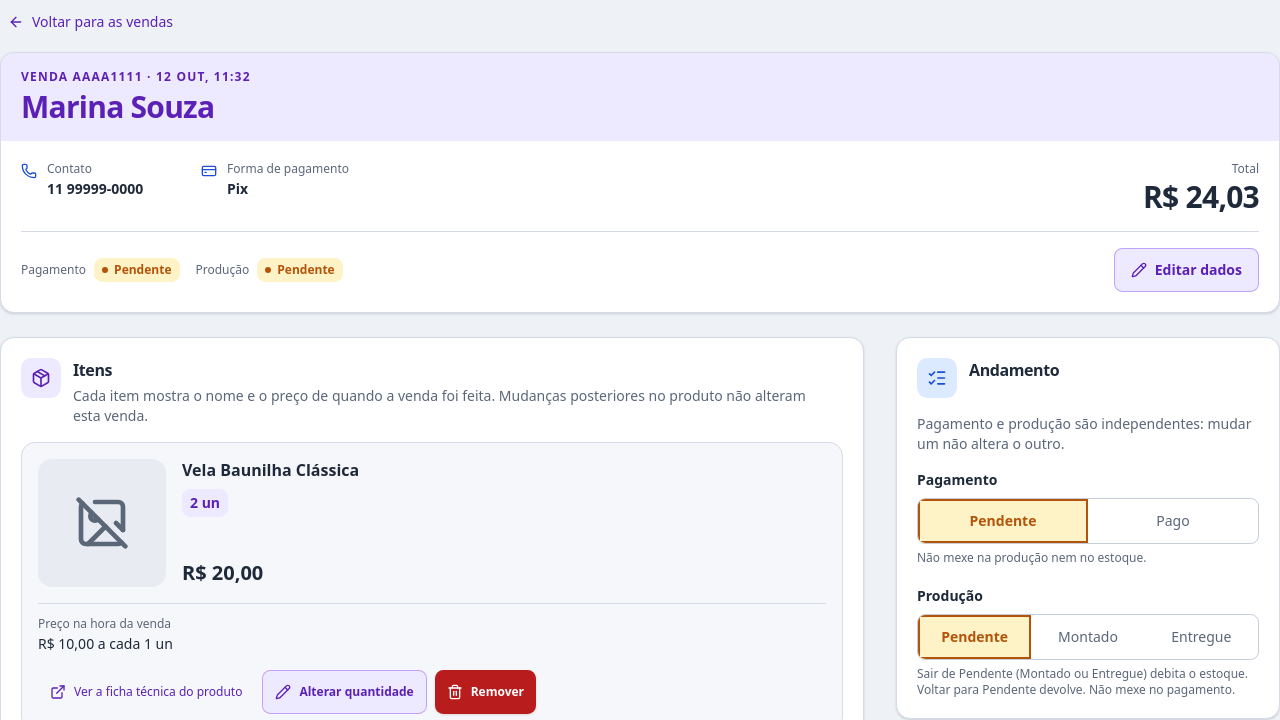
it: the two states of a sale › asks before delivering a pending sale, because that debits the stock too, and leaves the payment alone
The width and height of the screenshot is (1280, 720).
Check: the heading "Marina Souza" is shown, box [21,86,214,127]
Click the radio button labelled "Entregue".
click(1201, 637)  # box [1145,615,1258,659]
(page scrolled)
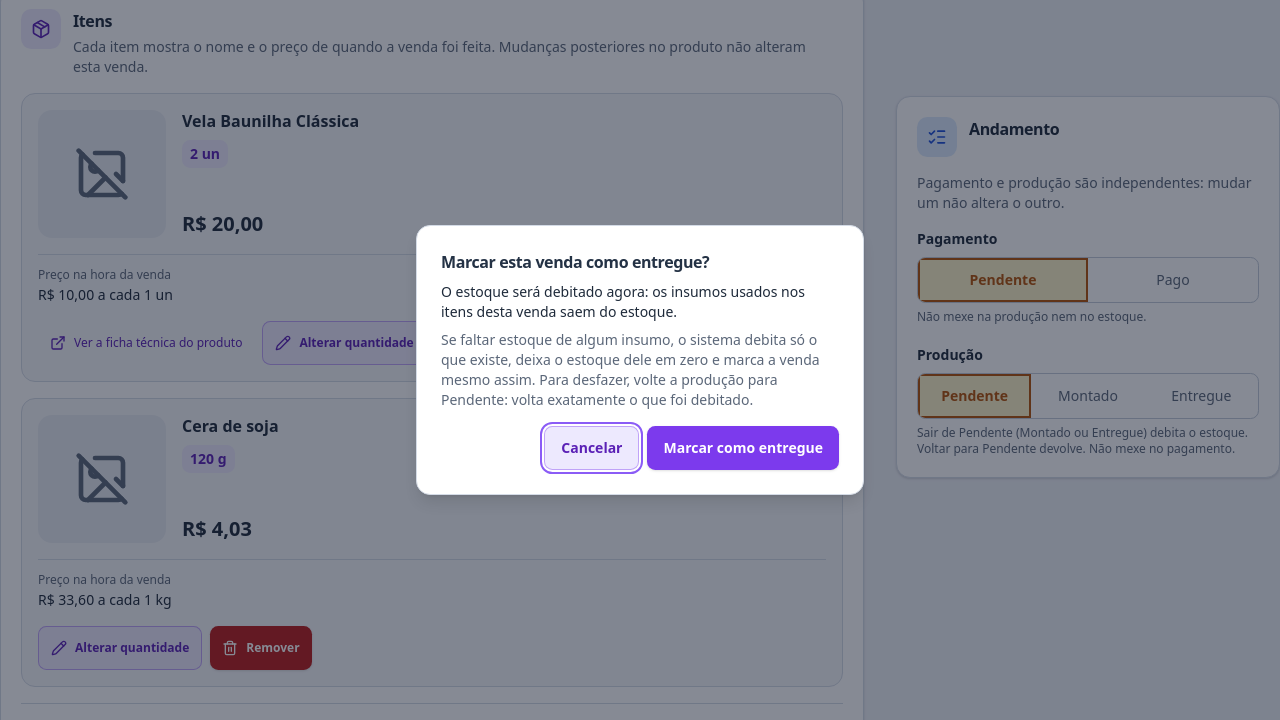
Check: the heading "Marcar esta venda como entregue?" is shown, box [441,251,709,273]
Check: the text "O estoque será debitado agora" is shown, box [441,282,805,321]
Click the button "Marcar como entregue".
click(743, 448)  # box [648,426,839,470]
(page scrolled)
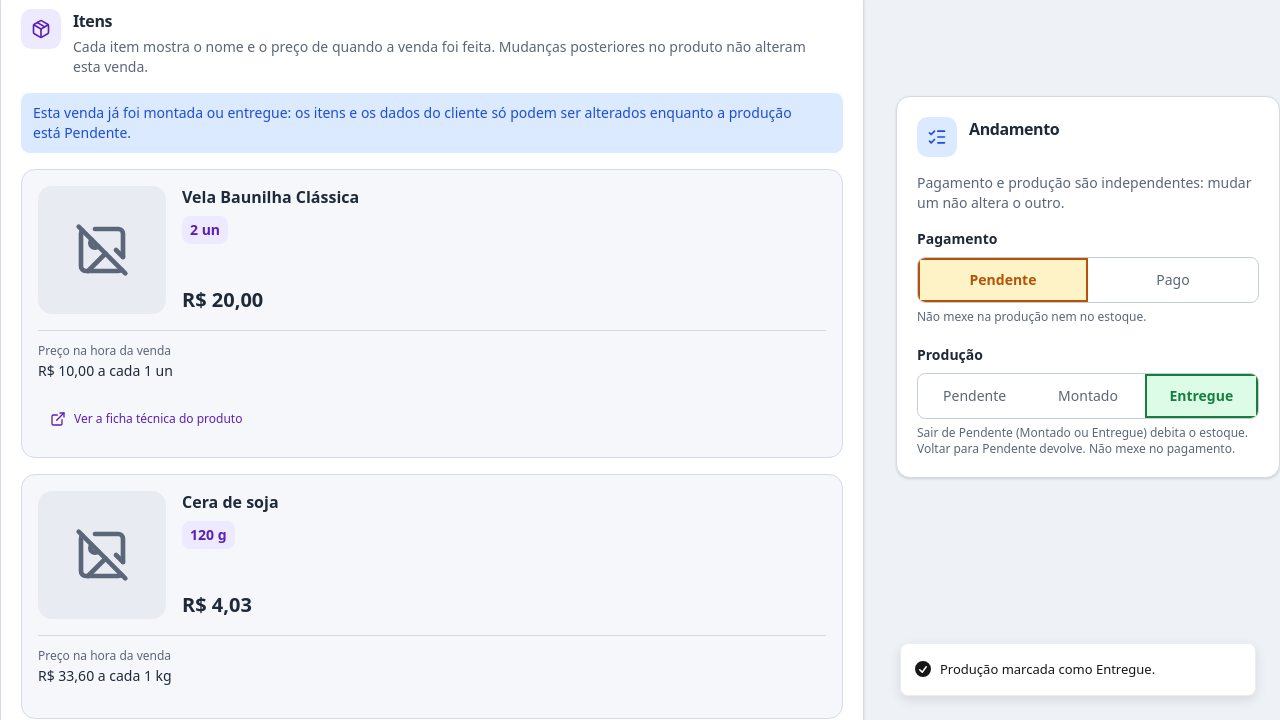
Check: the 1st radio button labelled "Pendente" is checked, box [918,258,1088,302]
Check: the text "Produção marcada como Entregue." is shown, box [940,660,1155,679]
